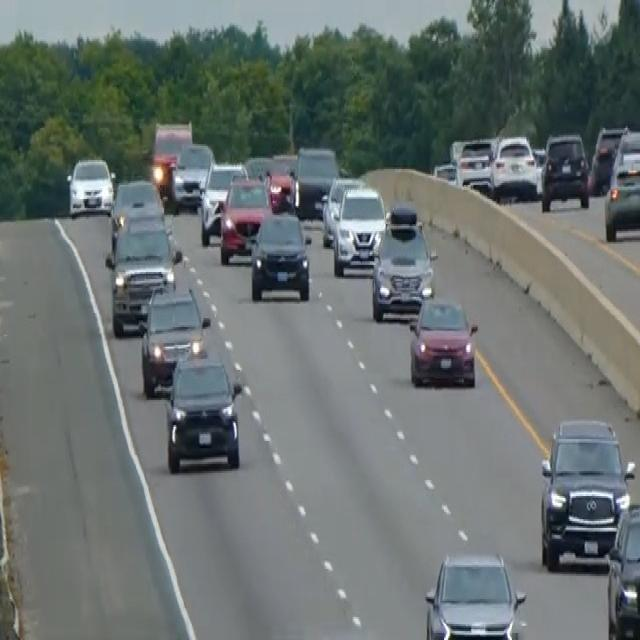car: (538, 414, 635, 569), (164, 341, 242, 473), (105, 213, 180, 336), (423, 550, 527, 638), (138, 281, 210, 396), (370, 202, 435, 322), (408, 292, 478, 388), (249, 210, 311, 302), (331, 185, 386, 275), (218, 174, 273, 263), (606, 500, 639, 638), (108, 176, 164, 256), (198, 160, 248, 245), (603, 128, 639, 242), (540, 130, 590, 212), (490, 131, 538, 201), (319, 174, 365, 247), (171, 140, 214, 210), (66, 155, 114, 217), (590, 123, 627, 192), (455, 135, 495, 196), (264, 166, 295, 213)
jeep: (149, 118, 193, 198)
